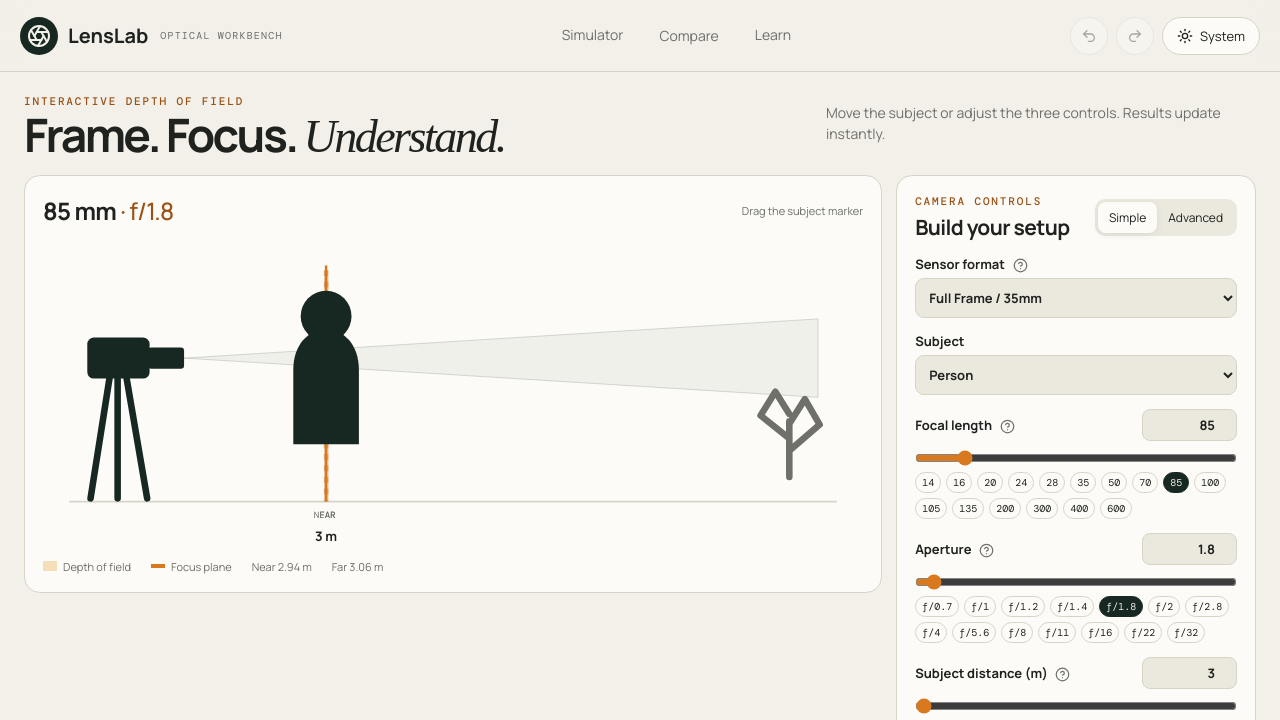
Test: App › updates optical results from a camera control
The width and height of the screenshot is (1280, 720).
Step 1. Set the slider named "Focal length slider" to "35" → (939, 458), box [915,450,1237,466]
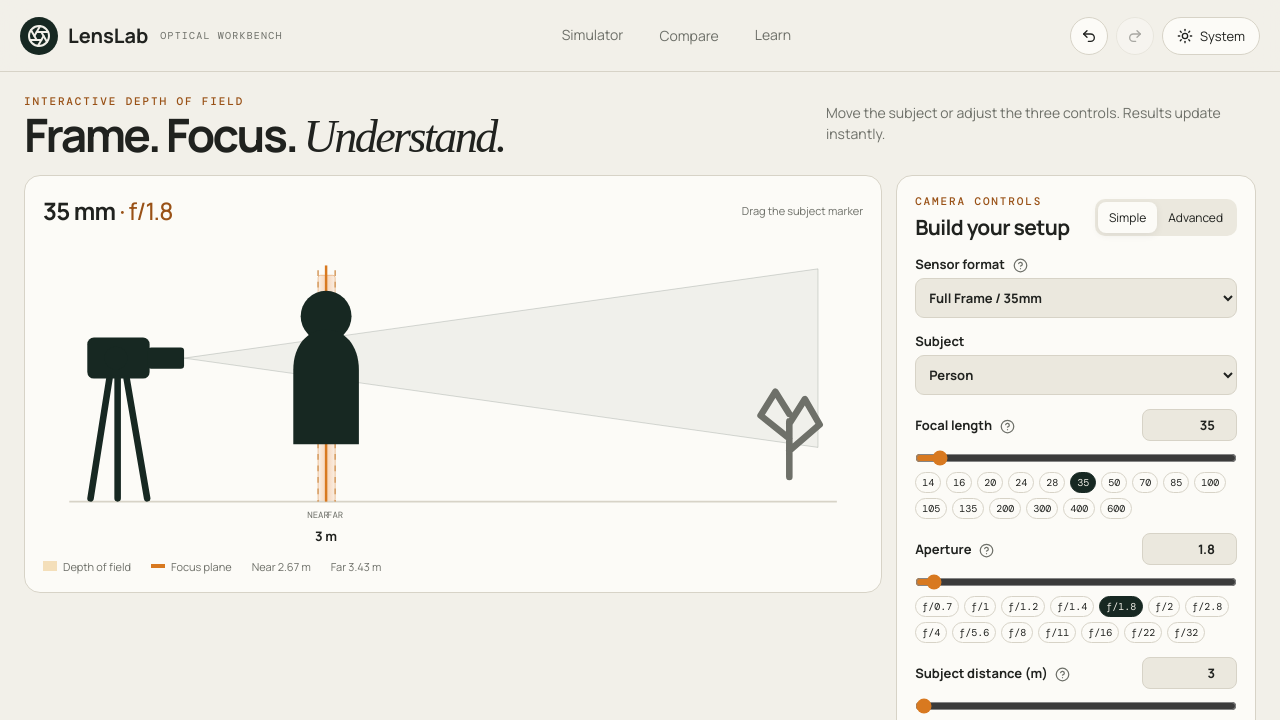
Now the text "35 mm" is shown, box [43,194,173,227]
